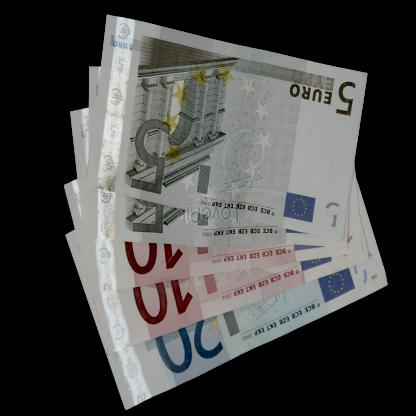euro_banknote: (82, 96, 357, 276), (89, 39, 363, 218), (88, 239, 383, 312), (87, 272, 405, 334), (90, 189, 350, 245)
